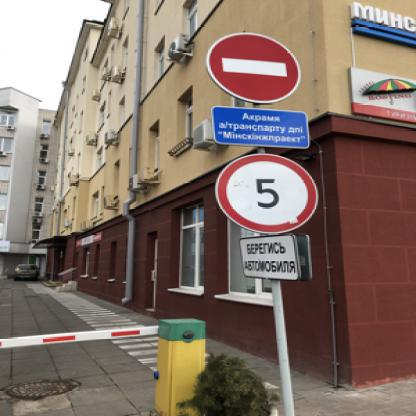speedlimit: (213, 153, 316, 233)
